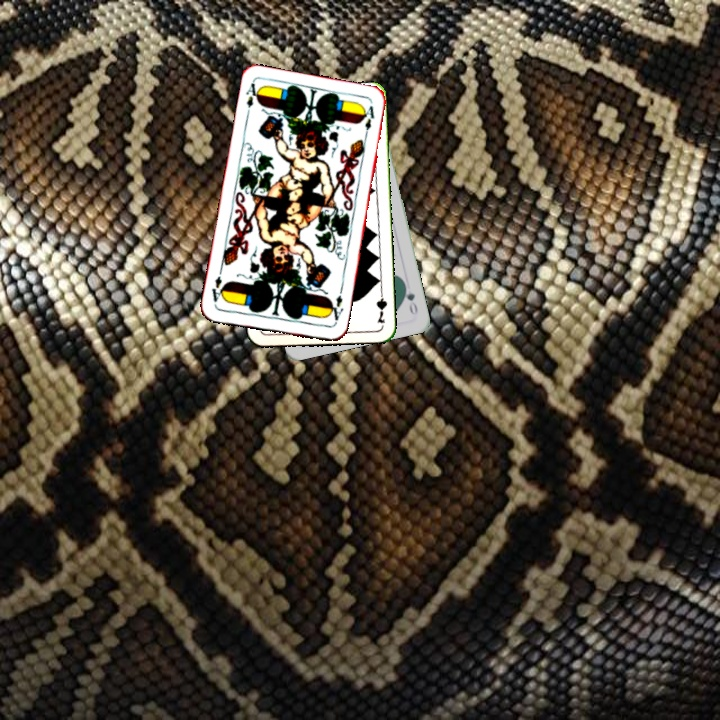EA: (242, 79, 263, 119), (324, 291, 346, 327)
G7: (372, 285, 389, 326)
GO: (400, 279, 420, 318)
